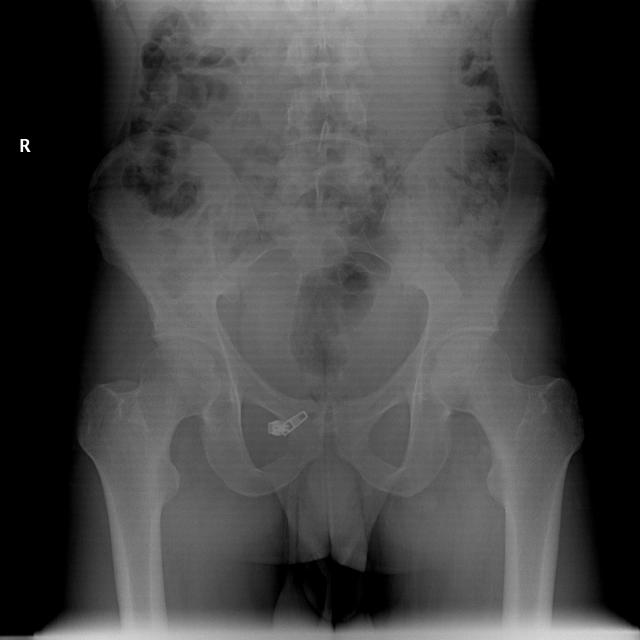normal-left: (430, 333, 585, 567)
normal-right: (77, 340, 221, 571)
